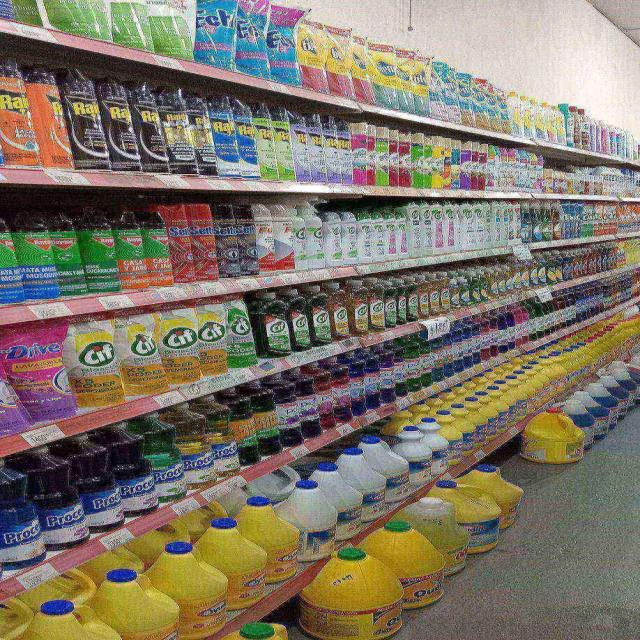cif_conc_botella_verde: (259, 292, 290, 358), (230, 296, 256, 365), (291, 292, 310, 353), (311, 291, 331, 348)
